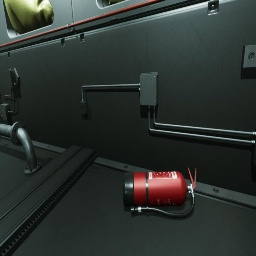FireExtinguisher ]: (123, 168, 196, 218)
